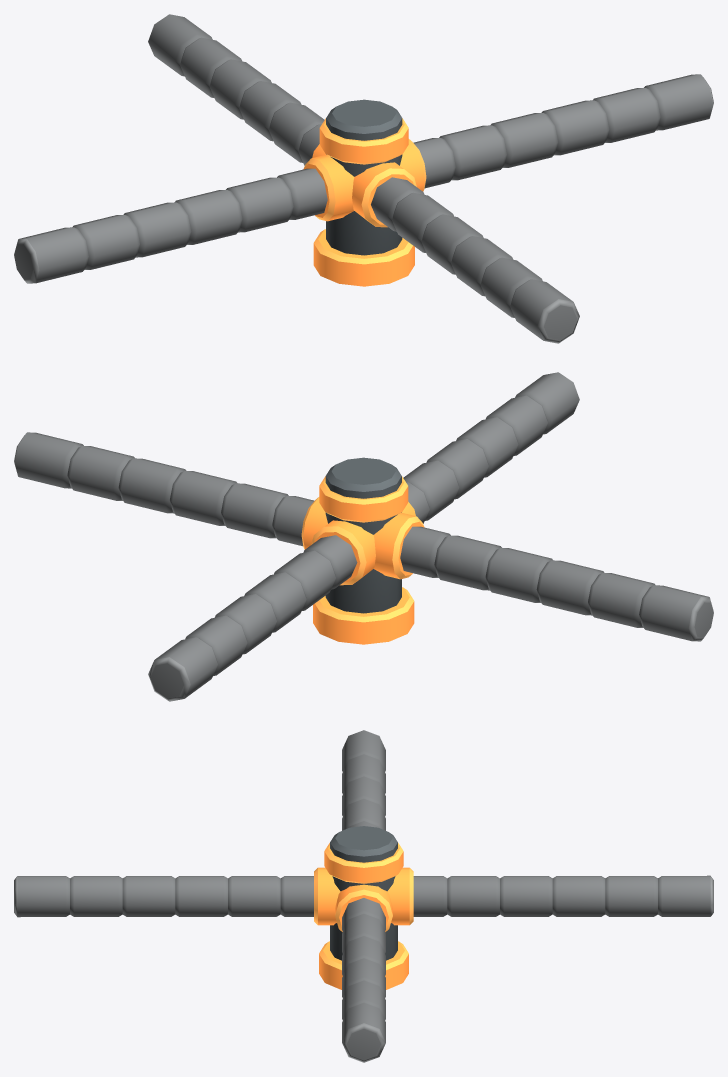
The model's file is obstacle_4_001.glb.
3 renders of one model, top to bottom at view 1: azimuth 30°, elevation 25°; view 2: azimuth 150°, elevation 25°; view 3: azimuth 270°, elevation 25°, orthographic. The views are drawn at different scales.
Visible parts, largest first — view 1: obstacle_4_001; view 2: obstacle_4_001; view 3: obstacle_4_001.
Boxes of the visible parts, bbox=[...] form: obstacle_4_001: bbox=[14, 14, 713, 343]; obstacle_4_001: bbox=[14, 372, 713, 701]; obstacle_4_001: bbox=[14, 730, 713, 1062].
Size of the model in its own units: 7.86 by 1.68 by 7.86.
Materials: 2 (2 with a texture image).
